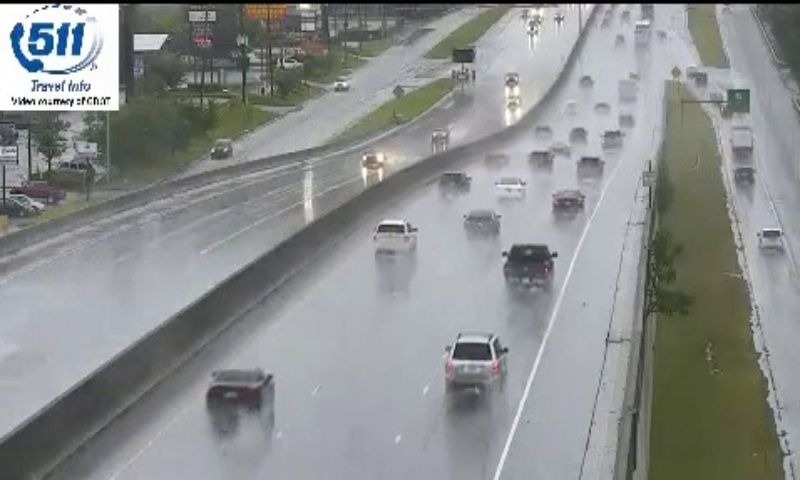car: (205, 369, 274, 417), (445, 335, 505, 388), (503, 243, 553, 285), (371, 219, 416, 253), (463, 209, 500, 238), (552, 190, 585, 217)
